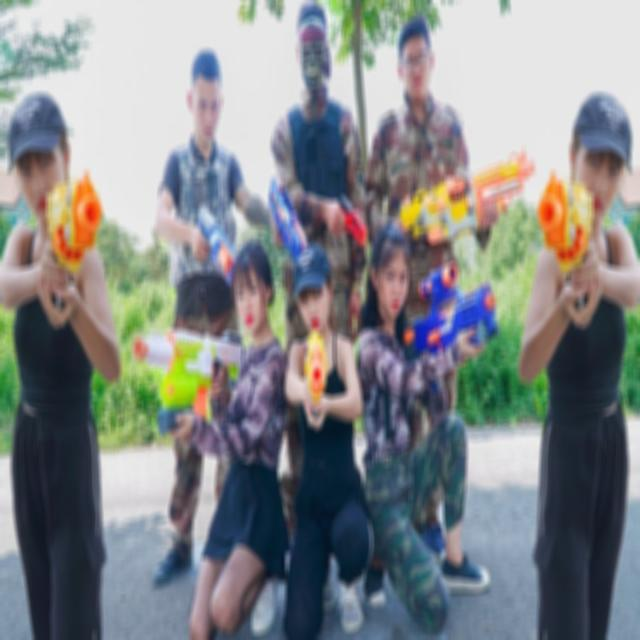Nerf gun: (392, 146, 536, 258), (126, 313, 245, 444), (393, 255, 502, 389), (534, 161, 598, 324), (39, 165, 102, 319), (261, 172, 307, 272), (184, 206, 241, 286), (298, 322, 328, 411), (335, 190, 370, 252)
